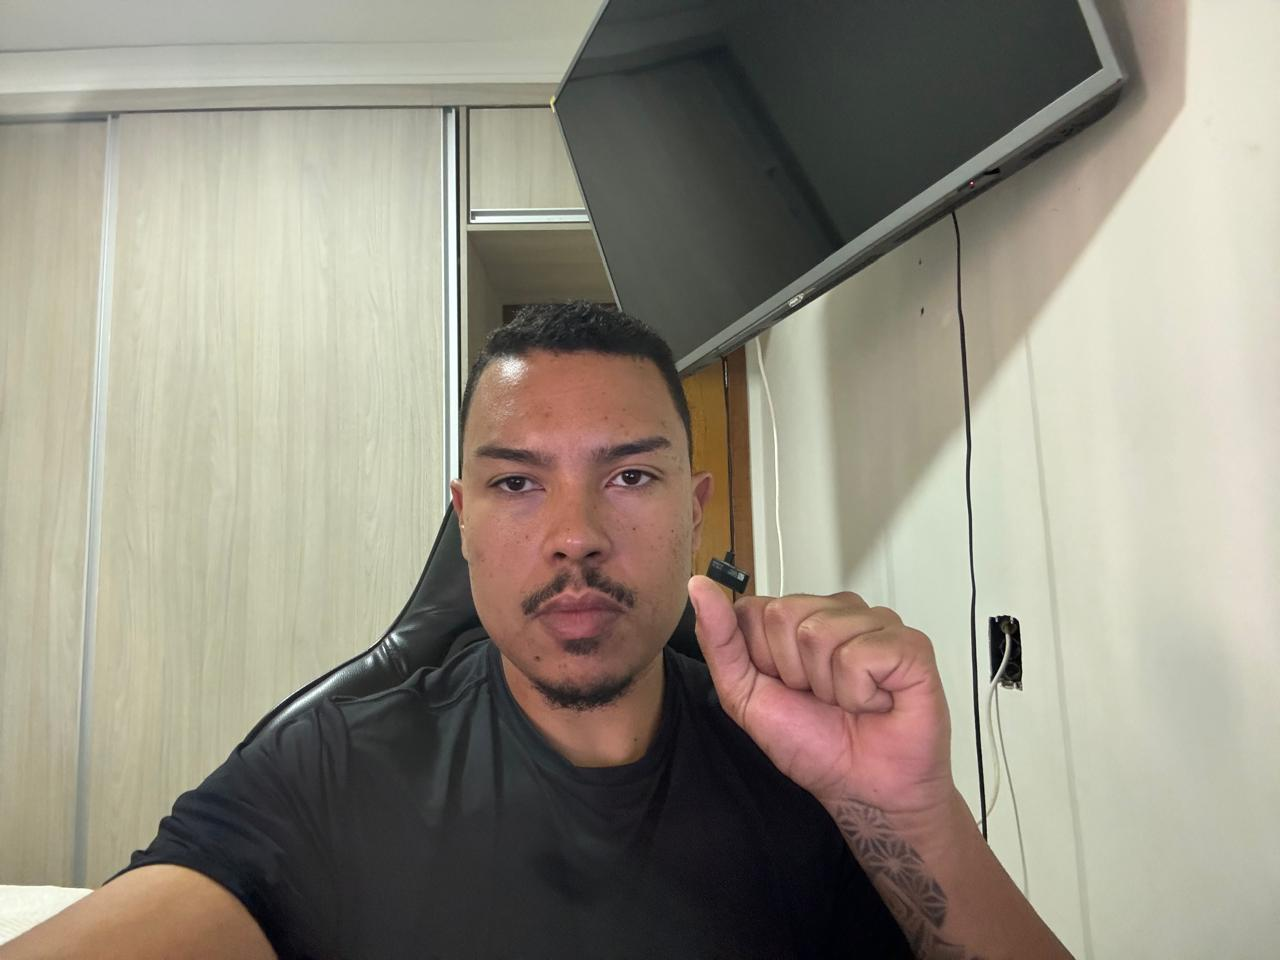a: (678, 570, 976, 814)
